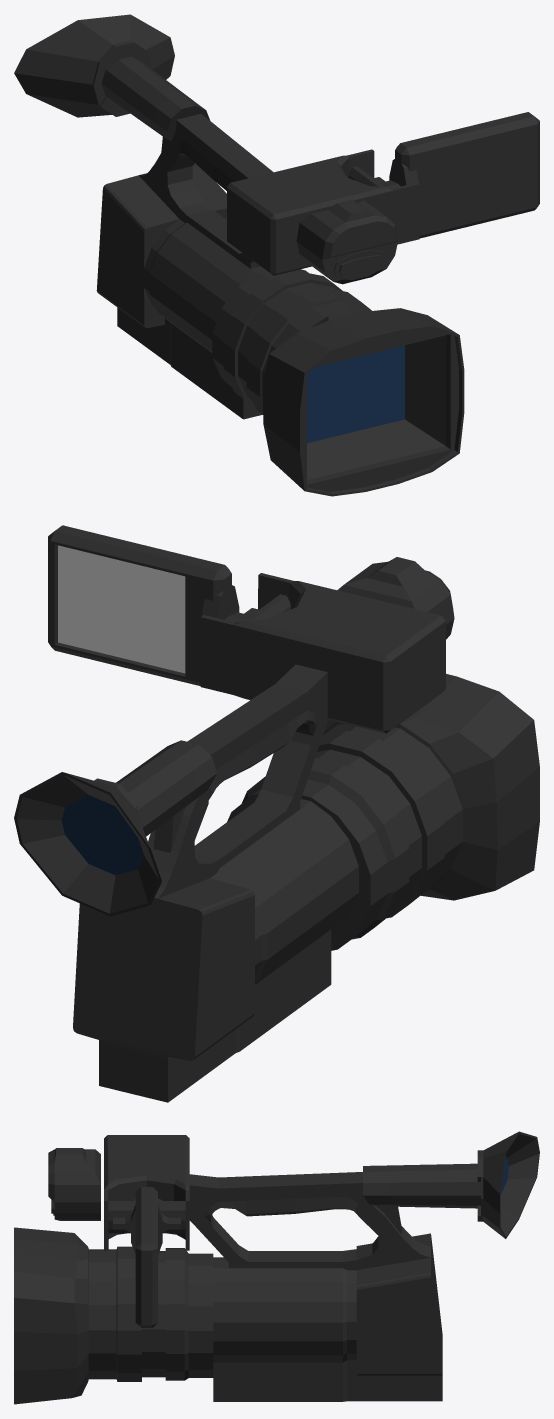
The model's file is camera.fbx.
3 renders of one model, top to bottom at view 1: azimuth 30°, elevation 25°; view 2: azimuth 150°, elevation 25°; view 3: azimuth 270°, elevation 25°, orthographic. The views are drawn at different scales.
Parts seen in each view (by area): view 1: camera; view 2: camera; view 3: camera.
Boxes of the visible parts, box(x1,y1,x2,y2) form: camera: box(14, 14, 539, 496); camera: box(14, 525, 539, 1102); camera: box(14, 1131, 539, 1404).
Bounding box in the file's own units: 23.79 × 19.96 × 38.49.
Materials: 1 (1 with a texture image).
